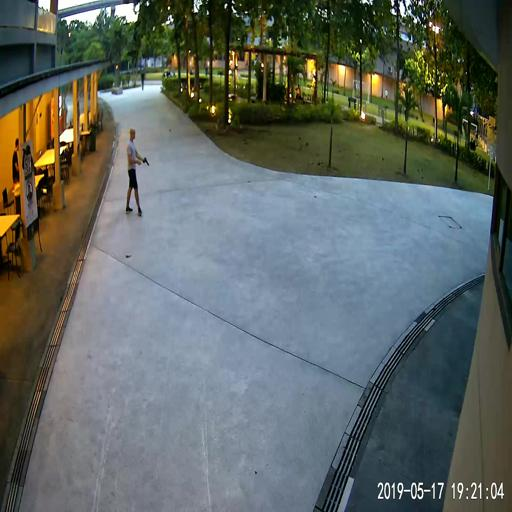pistol: (143, 155, 148, 166)
